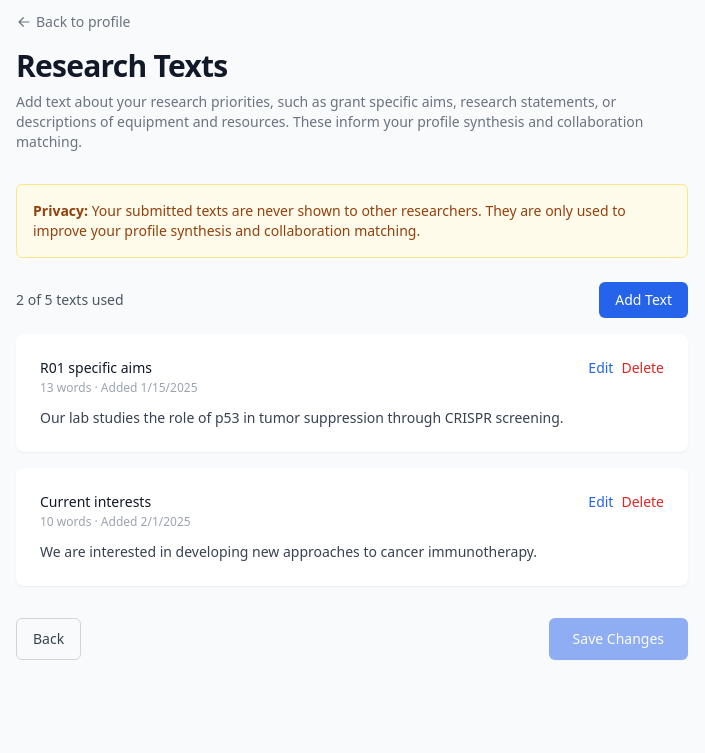
it: SubmittedTextsPage › saves changes via PUT and shows success
Expected: the heading "R01 specific aims" is shown, [40,358,152,377]
// Delete an entry to make dirty
Click the button with test id "delete-button-0" at (643, 368), box [621,358,664,378]
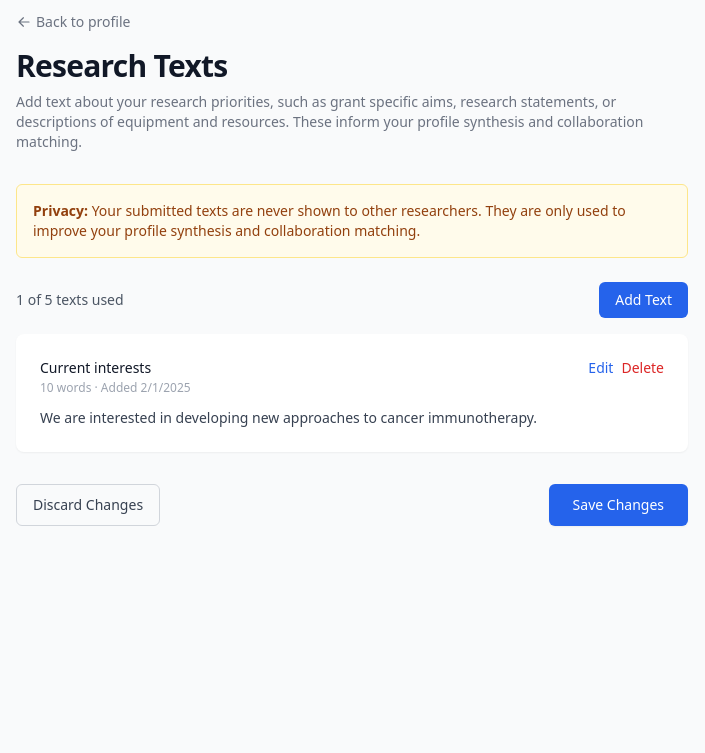
Click the button "Save Changes" at (618, 505), box [549,484,688,526]
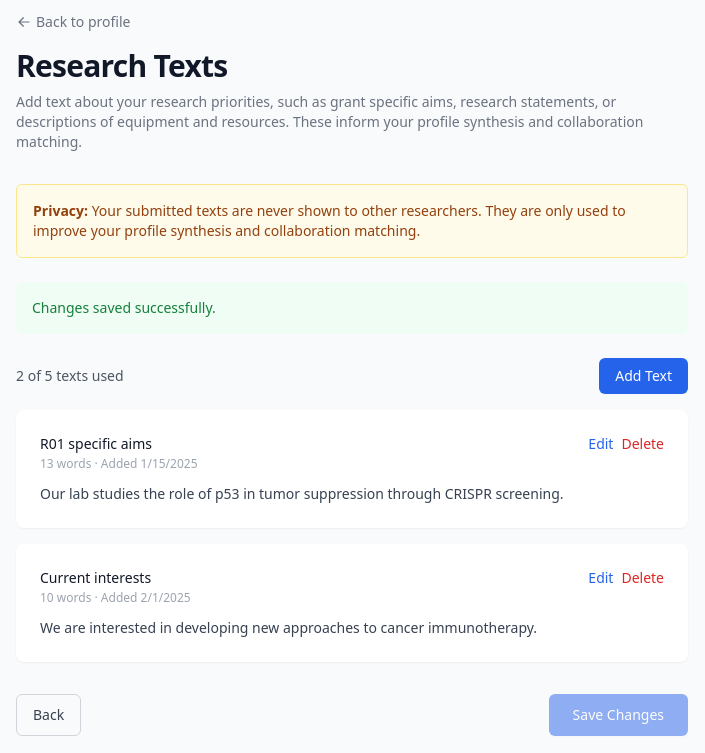
Expected: the text "Changes saved successfully." is shown, [32,298,216,317]
